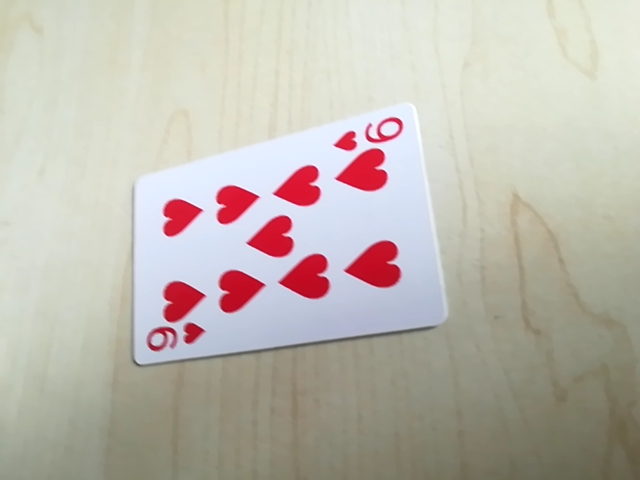hx 9: (332, 111, 405, 154), (140, 320, 208, 360)
